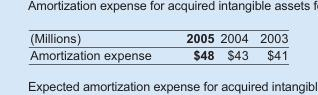table: (29, 29, 287, 64)
table column: (29, 29, 168, 64), (168, 29, 216, 64), (216, 29, 253, 64), (253, 29, 287, 64)
table column header: (29, 29, 287, 46)
table row: (29, 46, 287, 64), (29, 29, 287, 46)
